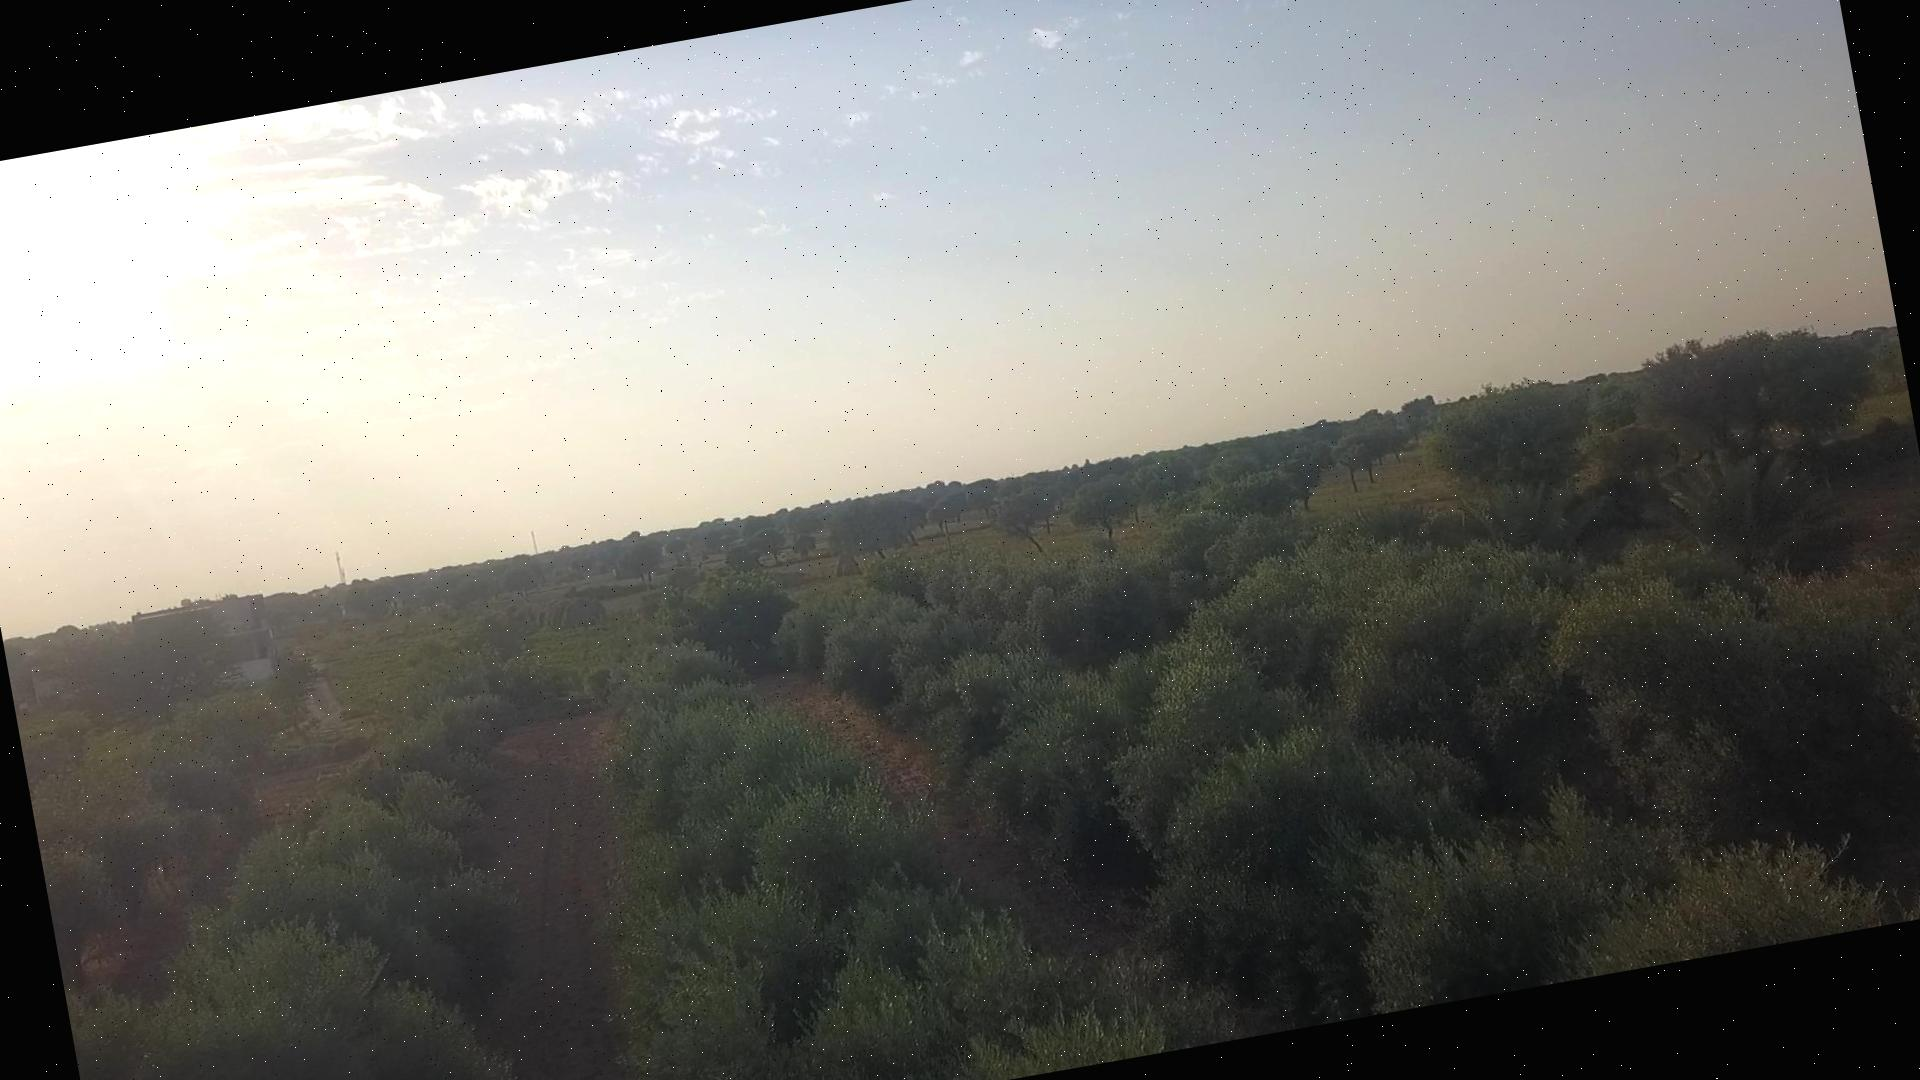canopy: (769, 592, 1880, 1019), (922, 538, 1920, 848), (600, 644, 1171, 1080), (95, 675, 541, 1080), (29, 691, 280, 978)
road: (753, 674, 1118, 951), (76, 756, 356, 997), (473, 707, 629, 1080)
